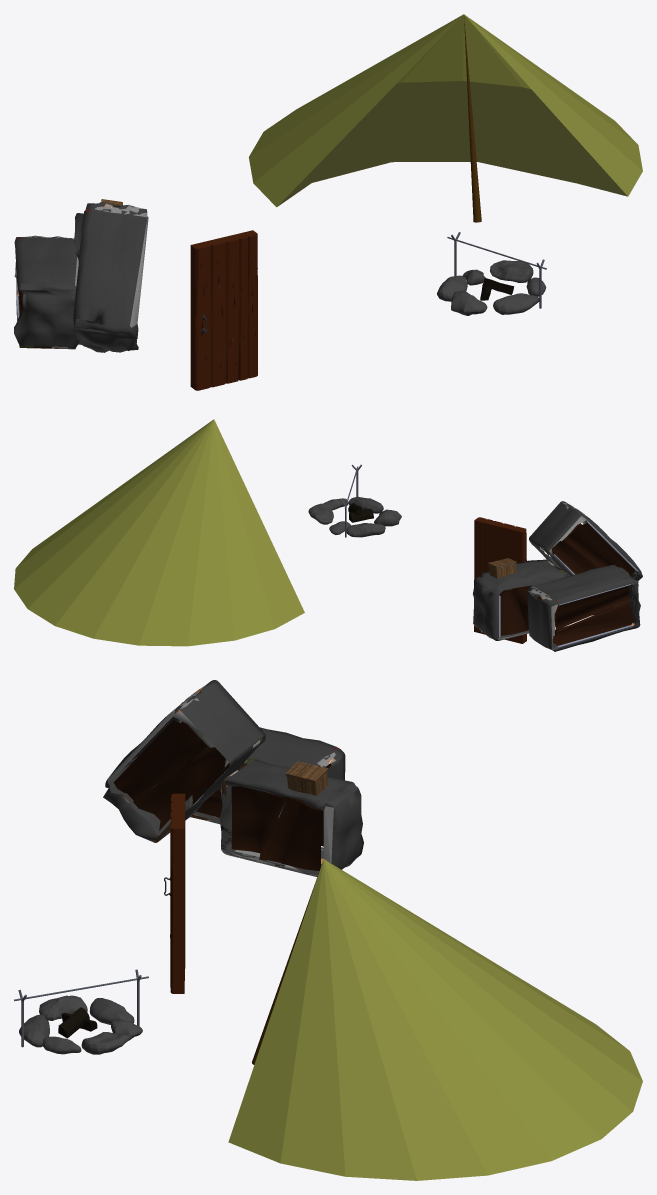
Rendered from laurentCampement.fbx.
The picture shows the model from 3 angles, top to bottom: view 1: azimuth 30°, elevation 25°; view 2: azimuth 150°, elevation 25°; view 3: azimuth 270°, elevation 25°; orthographic projection. The views are drawn at different scales.
Parts seen in each view (by area): view 1: tente, Caisses, feuDeCamp, latte, latte.001, latte.002, latte.004, latte.003; view 2: tente, Caisses, feuDeCamp, latte, latte.004, latte.001, latte.002, latte.003; view 3: tente, Caisses, feuDeCamp, latte.004.
Part boxes in pixels (x1,y1,x2,y2): tente: (249,14,642,222); Caisses: (14,202,148,352); feuDeCamp: (437,232,546,315); latte: (190,241,210,390); latte.001: (206,238,226,387); latte.002: (221,235,239,383); latte.004: (242,230,257,378); latte.003: (234,233,248,380); tente: (14,419,304,646); Caisses: (473,501,642,651); feuDeCamp: (308,464,401,537); latte: (511,526,526,643); latte.004: (474,517,486,633); latte.001: (499,523,514,640); latte.002: (489,521,502,562); latte.003: (482,519,492,634); tente: (228,859,642,1180); Caisses: (103,680,363,876); feuDeCamp: (14,969,148,1054); latte.004: (170,823,184,993).
Size of what is drawn, in the model's own units: 905 by 314 by 618.
